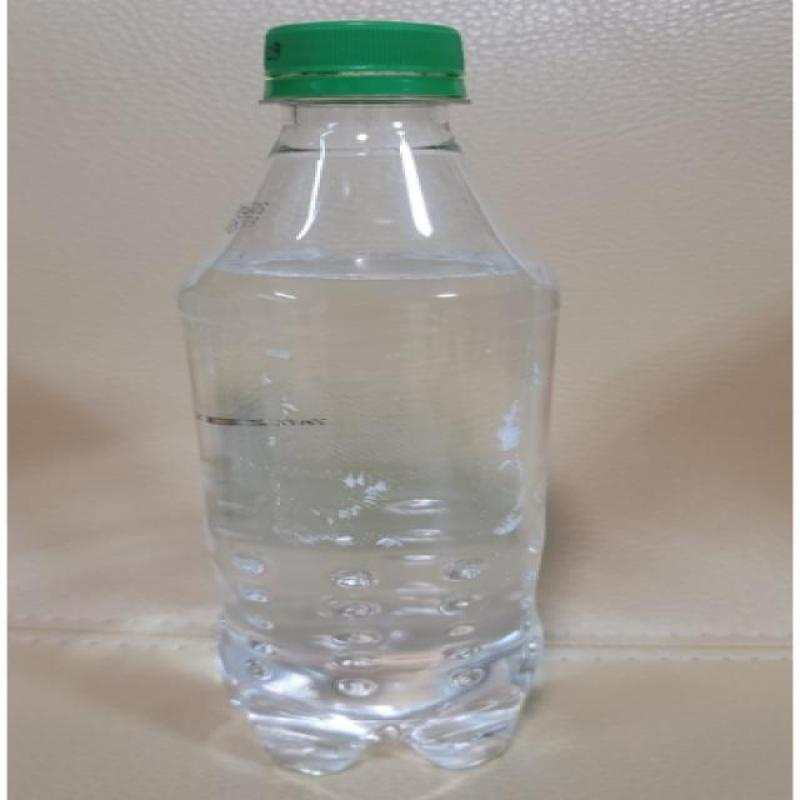botella: (178, 20, 560, 776)
